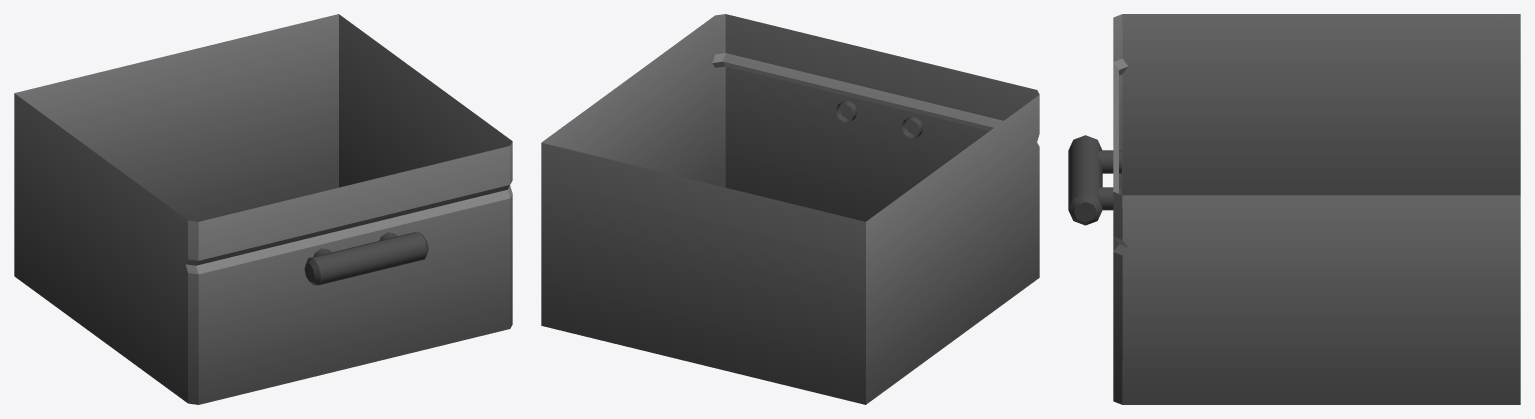
The model's file is Counter_01_v02.fbx.
3 renders of one model, left to right at view 1: azimuth 30°, elevation 25°; view 2: azimuth 150°, elevation 25°; view 3: azimuth 270°, elevation 25°, orthographic. The views are drawn at different scales.
Visible parts, largest first — view 1: Counter_01_v02; view 2: Counter_01_v02; view 3: Counter_01_v02.
Part boxes in pixels (bbox=[...]): Counter_01_v02: bbox=[14, 14, 512, 404]; Counter_01_v02: bbox=[541, 14, 1039, 404]; Counter_01_v02: bbox=[1068, 14, 1520, 404].
Bounding box in the file's own units: 100 × 53.91 × 105.
